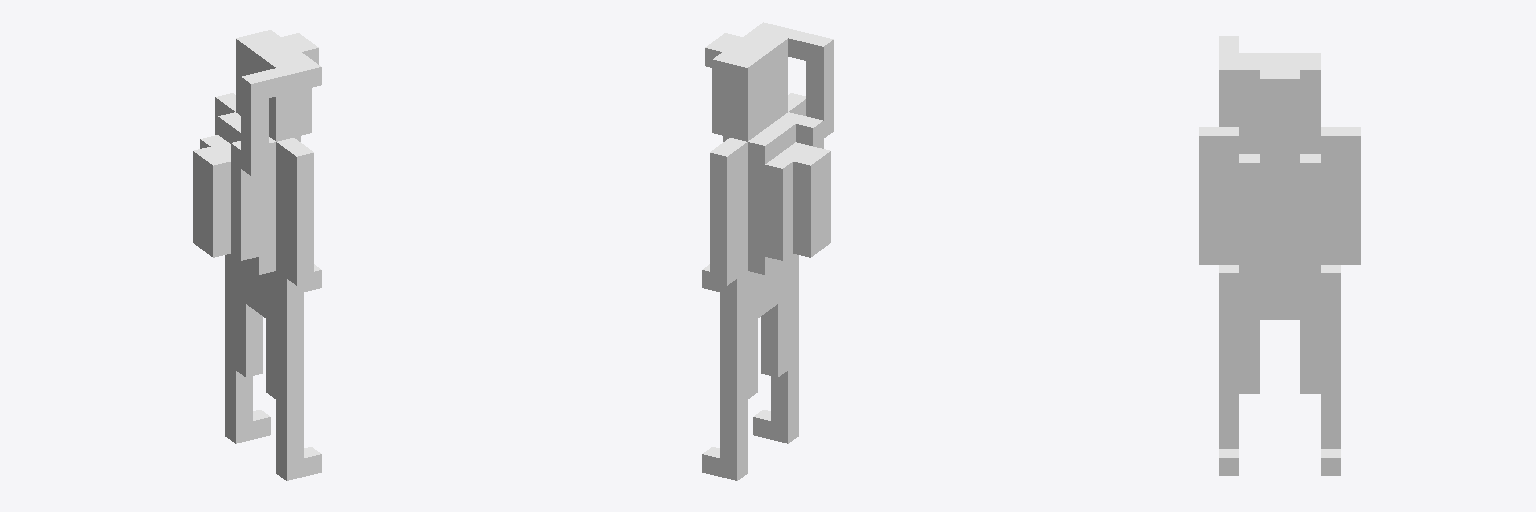
File: astro1.obj
The picture shows the model from 3 angles: view 1: azimuth 30°, elevation 25°; view 2: azimuth 150°, elevation 25°; view 3: azimuth 270°, elevation 25°; orthographic projection.
Size of the model in its own units: 6 by 22 by 8.